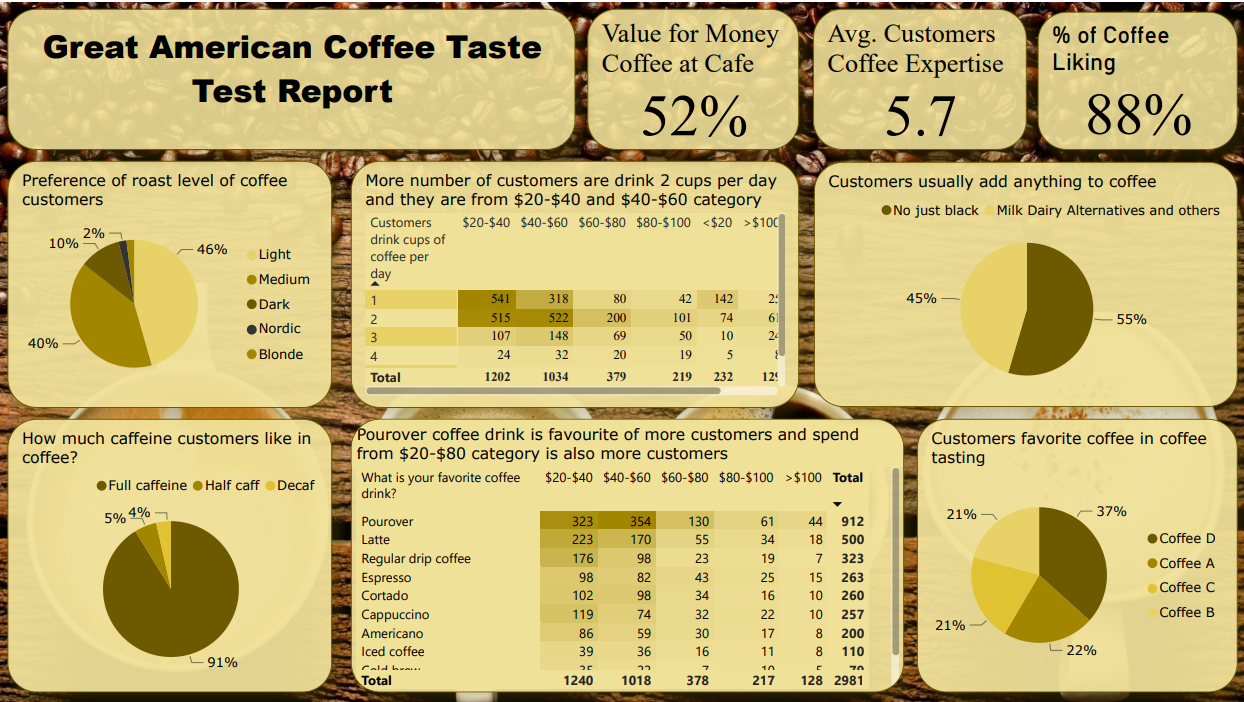

What the dashboard file says about the page in this screenshot:
{"tool":"powerbi","page":{"name":"Number of Customers for different number of cups","canvas":[1280,720],"ordinal":0},"visuals":[{"type":"pivotTable","title":"More number of customers are  drink 2 cups per day and they are from $20-$40 and $40-$60 category","fields":{"Rows":["GACTT_RESULTS_ANONYMIZED_v2.How many cups of coffee do you typically drink per day?"],"Values":["Count(GACTT_RESULTS_ANONYMIZED_v2.Submission ID)"],"Columns":["GACTT_RESULTS_ANONYMIZED_v2.In total, much money do you typically spend on coffee in a month?"]},"box":[360,161.4,457.1,251.4],"z":0},{"type":"pivotTable","title":"Pourover coffee drink is favourite of more customers and spend from $20-$80 category is also more customers","fields":{"Rows":["GACTT_RESULTS_ANONYMIZED_v2.What is your favorite coffee drink?"],"Columns":["GACTT_RESULTS_ANONYMIZED_v2.In total, much money do you typically spend on coffee in a month?"],"Values":["CountNonNull(GACTT_RESULTS_ANONYMIZED_v2.Submission ID)"]},"box":[360,424.3,564.3,278.6],"z":1000},{"type":"pieChart","title":" Preference of roast level of coffee customers ","fields":{"Category":["GACTT_RESULTS_ANONYMIZED_v2.What roast level of coffee do you prefer?"],"Y":["Count(GACTT_RESULTS_ANONYMIZED_v2.Submission ID)"]},"box":[10,161.4,331.4,251.4],"z":2000},{"type":"pieChart","title":"How much caffeine customers like in coffee?","fields":{"Category":["GACTT_RESULTS_ANONYMIZED_v2.How much caffeine do you like in your coffee?"],"Y":["Count(GACTT_RESULTS_ANONYMIZED_v2.Submission ID)"]},"box":[10,424.3,331.4,278.6],"z":3000},{"type":"pieChart","title":"Customers usually add anything to coffee","fields":{"Category":["GACTT_RESULTS_ANONYMIZED_v2.Black or Not"],"Y":["Count(GACTT_RESULTS_ANONYMIZED_v2.Submission ID)"]},"box":[832,161.6,432.3,250.9],"z":4000},{"type":"pieChart","title":"Customers favorite coffee in coffee tasting","fields":{"Category":["GACTT_RESULTS_ANONYMIZED_v2.Lastly, what was your favorite overall coffee?"],"Y":["Count(GACTT_RESULTS_ANONYMIZED_v2.Submission ID)"]},"box":[937.1,424.3,327.1,278.6],"z":5000},{"type":"card","title":"Avg. Customers Coffee Expertise","fields":{"Values":["Avg(GACTT_RESULTS_ANONYMIZED_v2.Lastly, how would you rate your own coffee expertise?)"]},"box":[831.4,5.7,217.1,144.3],"z":6000},{"type":"card","title":"% of Coffee Liking ","fields":{"Values":["GACTT_RESULTS_ANONYMIZED_v2.coffee liking"]},"box":[1060,8.6,204.3,141.4],"z":7000},{"type":"card","title":"Value for Money Coffee at Cafe","fields":{"Values":["GACTT_RESULTS_ANONYMIZED_v2.Good Value for Money"]},"box":[601.4,5.7,215.7,144.3],"z":8000},{"type":"textbox","box":[10,5.7,578.6,144.3],"z":9000}]}

Visuals, with their boxes in screenshot pixels (x1, y1, x2, y2), scaled from the page's 1280x720 canvas onto the 1244x702 screenshot:
"More number of customers are  drink 2 cups per day and they are from $20-$40 and $40-$60 category" pivotTable: BBox(350, 157, 794, 402)
"Pourover coffee drink is favourite of more customers and spend from $20-$80 category is also more customers" pivotTable: BBox(350, 414, 898, 685)
" Preference of roast level of coffee customers " pieChart: BBox(10, 157, 332, 402)
"How much caffeine customers like in coffee?" pieChart: BBox(10, 414, 332, 685)
"Customers usually add anything to coffee" pieChart: BBox(809, 158, 1229, 402)
"Customers favorite coffee in coffee tasting" pieChart: BBox(911, 414, 1229, 685)
"Avg. Customers Coffee Expertise" card: BBox(808, 6, 1019, 146)
"% of Coffee Liking " card: BBox(1030, 8, 1229, 146)
"Value for Money Coffee at Cafe" card: BBox(584, 6, 794, 146)
textbox: BBox(10, 6, 572, 146)
